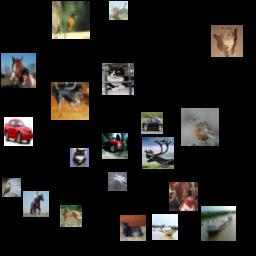airplane: (108, 172, 127, 191)
automobile: (4, 117, 33, 146), (102, 133, 128, 159), (141, 112, 163, 134)
bird: (181, 108, 219, 146), (52, 1, 90, 39), (2, 178, 21, 197)
cat: (102, 63, 134, 95), (211, 25, 243, 57), (169, 182, 198, 211), (70, 148, 89, 167)
deer: (142, 137, 174, 169), (60, 205, 82, 227), (109, 1, 128, 20)
dog: (51, 82, 89, 120)
ship: (201, 206, 236, 241), (152, 214, 178, 240)
